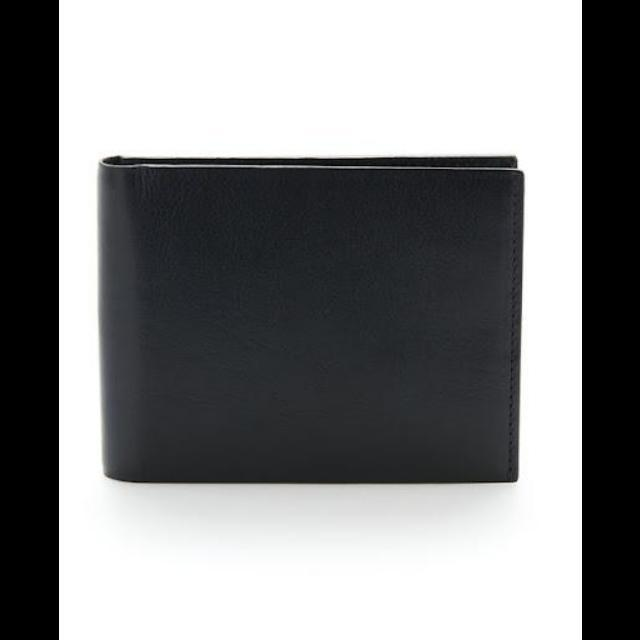wallet: (98, 154, 526, 482)
